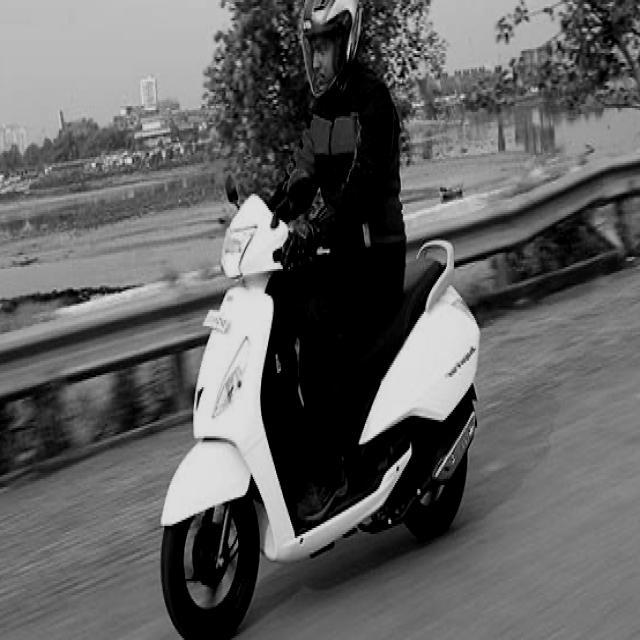Helmet: (296, 0, 366, 104)
